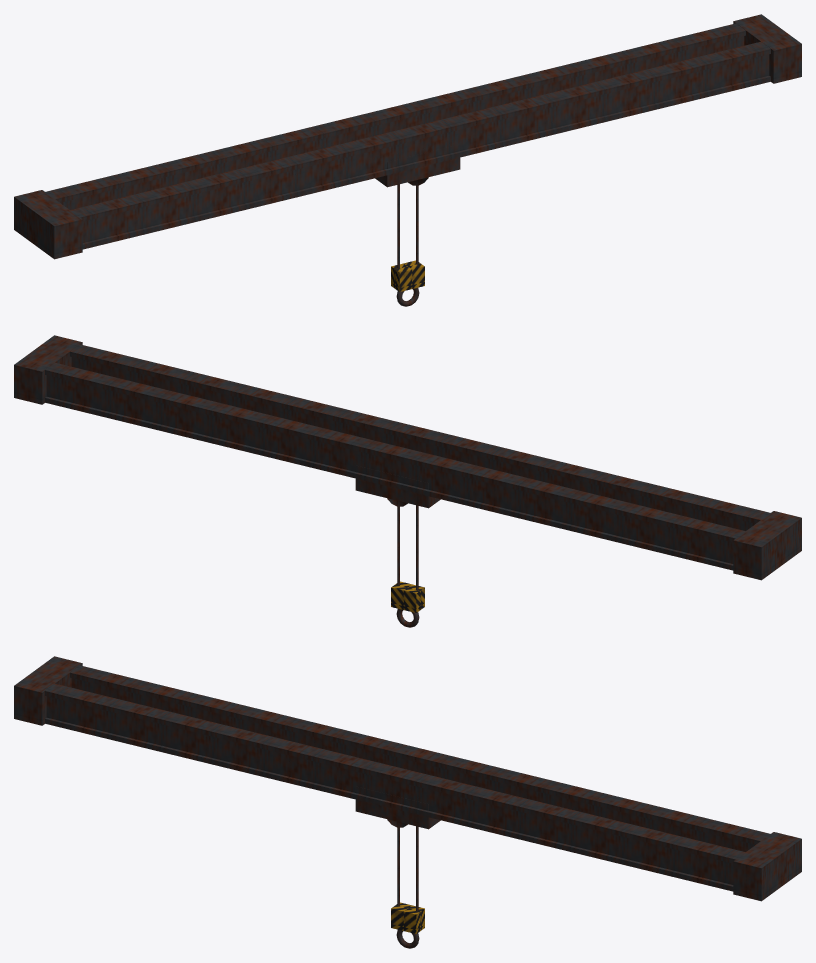
The model's file is Prop_OverheadCrane.fbx.
3 views of the same model, one above another, from view 1: azimuth 30°, elevation 25°; view 2: azimuth 150°, elevation 25°; view 3: azimuth 330°, elevation 25° (orthographic).
Visible parts, largest first — view 1: Prop_OverheadCrane; view 2: Prop_OverheadCrane; view 3: Prop_OverheadCrane.
Boxes of the visible parts, <box> form: Prop_OverheadCrane: <box>14,14,801,306</box>; Prop_OverheadCrane: <box>14,335,801,627</box>; Prop_OverheadCrane: <box>14,656,801,948</box>.
Size of the model in its own units: 22.45 by 5.33 by 2.1.
